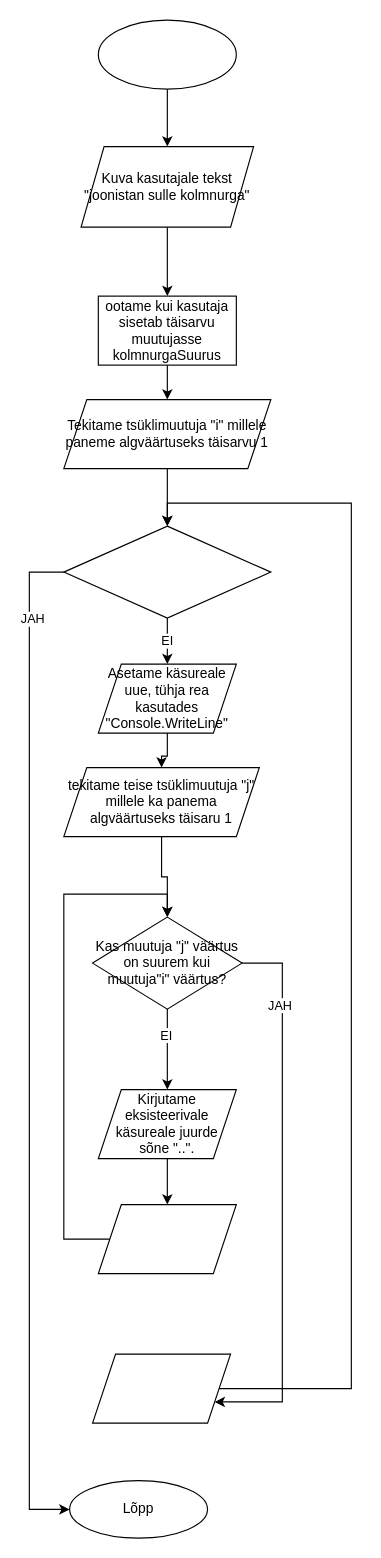
Some shapes in this 381 by 1558 pixel diagram are drawn without their labels. The shapes that lost their labels are listed below. From the top down, each one's box as (x1, y1, x2, y2) in pixels, then its label:
(97, 19, 236, 89): Algus
(63, 525, 271, 618): Kas muutuja "i" väärtus on suutem kui muutuja "kolmnutgaSuurus" väärtus
(97, 1203, 236, 1274): inkrementeerime muutujat "j" ühe võrra
(91, 1353, 231, 1423): inkrementeerime muutuhat "i" ühe võrra
